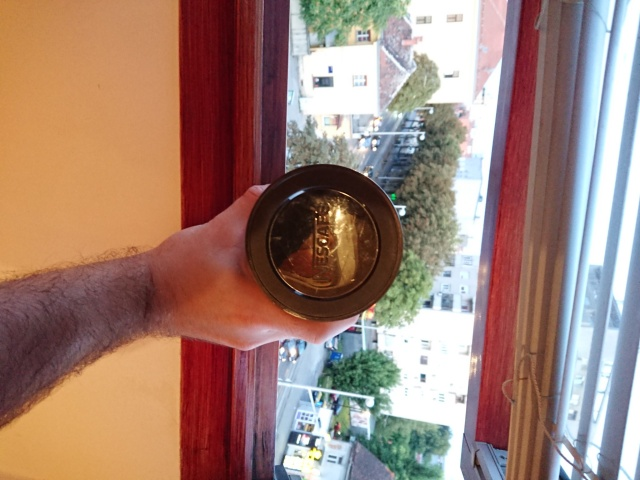Nescafe Classic 225g: (241, 161, 407, 325)
